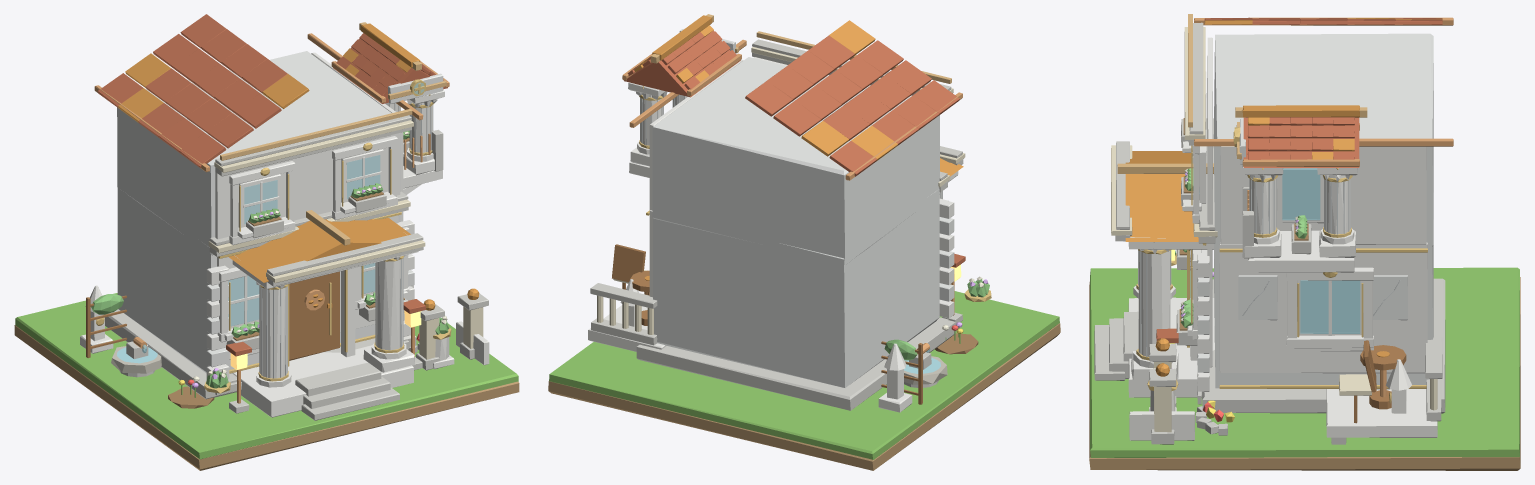
The model's file is villa_l04_active_LOD1.glb.
3 renders of one model, left to right at view 1: azimuth 30°, elevation 25°; view 2: azimuth 150°, elevation 25°; view 3: azimuth 270°, elevation 25°, orthographic. The views are drawn at different scales.
Parts seen in each view (by area): view 1: villa_grass_tile_villa_l04_active_LOD1_tmp, villa_l04_active_full_upper_shell_villa_l04_active_LOD1_tmp, villa_l01_active_v2_marble_core_villa_l04_active_LOD1_tmp, villa_earth_tile_villa_l04_active_LOD1_tmp, villa_l04_active_wide_portico_roof_gable_roof_villa_l04_acti, villa_l04_active_upper_front_cladding_villa_l04_active_LOD1_, villa_l04_active_wide_porch_villa_l04_active_LOD1_tmp, villa_l01_active_v2_entry_door_villa_l04_active_LOD1_tmp, villa_l01_active_v2_base_stone_block_low_medium_foundation_v, villa_l04_active_wide_column_-1_shaft_villa_l04_active_LOD1_, villa_l04_active_wide_column_1_shaft_villa_l04_active_LOD1_t, villa_l01_active_v2_stairs_step_2_villa_l04_active_LOD1_tmp (+51 smaller); view 2: villa_l01_active_v2_marble_core_villa_l04_active_LOD1_tmp, villa_l04_active_full_upper_shell_villa_l04_active_LOD1_tmp, villa_grass_tile_villa_l04_active_LOD1_tmp, villa_l01_active_v2_base_stone_block_low_medium_foundation_v, villa_earth_tile_villa_l04_active_LOD1_tmp, villa_l04_active_balcony_gable_gable_roof_villa_l04_active_L, villa_l04_active_chair_back_villa_l04_active_LOD1_tmp, villa_l04_active_full_upper_tile_-1_0_4_villa_l04_active_LOD, villa_l04_active_full_upper_tile_-1_2_4_villa_l04_active_LOD, villa_l04_active_full_upper_tile_-1_1_4_villa_l04_active_LOD, villa_l04_active_full_upper_tile_-1_3_4_villa_l04_active_LOD, villa_l04_active_terrace_deck_villa_l04_active_LOD1_tmp (+24 smaller); view 3: villa_grass_tile_villa_l04_active_LOD1_tmp, villa_l04_active_full_upper_shell_villa_l04_active_LOD1_tmp, villa_l01_active_v2_right_marble_cladding_villa_l04_active_L, villa_l04_active_upper_right_cladding_villa_l04_active_LOD1_, villa_earth_tile_villa_l04_active_LOD1_tmp, villa_l04_active_wide_portico_roof_gable_roof_villa_l04_acti, villa_l01_active_v2_base_stone_block_low_medium_foundation_v, villa_l04_active_terrace_deck_villa_l04_active_LOD1_tmp, villa_l01_active_v2_marble_core_villa_l04_active_LOD1_tmp, villa_l01_active_v2_side_window_glass_villa_l04_active_LOD1_, villa_l04_active_wide_column_1_shaft_villa_l04_active_LOD1_t, villa_l04_active_balcony_slab_villa_l04_active_LOD1_tmp (+43 smaller).
Part boxes in pixels (x1=…): villa_grass_tile_villa_l04_active_LOD1_tmp: x1=15, y1=293, x2=518, y2=459; villa_l04_active_full_upper_shell_villa_l04_active_LOD1_tmp: x1=117, y1=51, x2=400, y2=255; villa_l01_active_v2_marble_core_villa_l04_active_LOD1_tmp: x1=117, y1=187, x2=400, y2=373; villa_earth_tile_villa_l04_active_LOD1_tmp: x1=14, y1=325, x2=519, y2=470; villa_l04_active_wide_portico_roof_gable_roof_villa_l04_acti: x1=229, y1=218, x2=410, y2=282; villa_l04_active_upper_front_cladding_villa_l04_active_LOD1_: x1=215, y1=133, x2=400, y2=239; villa_l04_active_wide_porch_villa_l04_active_LOD1_tmp: x1=232, y1=346, x2=413, y2=417; villa_l01_active_v2_entry_door_villa_l04_active_LOD1_tmp: x1=289, y1=271, x2=339, y2=360; villa_l01_active_v2_base_stone_block_low_medium_foundation_v: x1=105, y1=309, x2=416, y2=399; villa_l04_active_wide_column_-1_shaft_villa_l04_active_LOD1_: x1=259, y1=286, x2=287, y2=378; villa_l04_active_wide_column_1_shaft_villa_l04_active_LOD1_t: x1=375, y1=258, x2=402, y2=350; villa_l01_active_v2_stairs_step_2_villa_l04_active_LOD1_tmp: x1=295, y1=362, x2=381, y2=396; villa_l01_active_v2_marble_core_villa_l04_active_LOD1_tmp: x1=653, y1=189, x2=939, y2=387; villa_l04_active_full_upper_shell_villa_l04_active_LOD1_tmp: x1=652, y1=57, x2=939, y2=264; villa_grass_tile_villa_l04_active_LOD1_tmp: x1=549, y1=291, x2=1059, y2=459; villa_l01_active_v2_base_stone_block_low_medium_foundation_v: x1=636, y1=318, x2=955, y2=410; villa_earth_tile_villa_l04_active_LOD1_tmp: x1=548, y1=323, x2=1060, y2=470; villa_l04_active_balcony_gable_gable_roof_villa_l04_active_L: x1=624, y1=30, x2=740, y2=97; villa_l04_active_chair_back_villa_l04_active_LOD1_tmp: x1=612, y1=244, x2=645, y2=282; villa_l04_active_full_upper_tile_-1_0_4_villa_l04_active_LOD: x1=745, y1=81, x2=792, y2=116; villa_l04_active_full_upper_tile_-1_2_4_villa_l04_active_LOD: x1=801, y1=121, x2=848, y2=156; villa_l04_active_full_upper_tile_-1_1_4_villa_l04_active_LOD: x1=773, y1=101, x2=820, y2=136; villa_l04_active_full_upper_tile_-1_3_4_villa_l04_active_LOD: x1=829, y1=141, x2=876, y2=176; villa_l04_active_terrace_deck_villa_l04_active_LOD1_tmp: x1=588, y1=305, x2=666, y2=351; villa_grass_tile_villa_l04_active_LOD1_tmp: x1=1090, y1=267, x2=1519, y2=457; villa_l04_active_full_upper_shell_villa_l04_active_LOD1_tmp: x1=1213, y1=33, x2=1433, y2=246; villa_l01_active_v2_right_marble_cladding_villa_l04_active_L: x1=1219, y1=242, x2=1427, y2=373; villa_l04_active_upper_right_cladding_villa_l04_active_LOD1_: x1=1220, y1=146, x2=1426, y2=244; villa_earth_tile_villa_l04_active_LOD1_tmp: x1=1089, y1=277, x2=1520, y2=470; villa_l04_active_wide_portico_roof_gable_roof_villa_l04_acti: x1=1125, y1=151, x2=1198, y2=241; villa_l01_active_v2_base_stone_block_low_medium_foundation_v: x1=1202, y1=278, x2=1445, y2=413; villa_l04_active_terrace_deck_villa_l04_active_LOD1_tmp: x1=1326, y1=389, x2=1437, y2=437; villa_l01_active_v2_marble_core_villa_l04_active_LOD1_tmp: x1=1214, y1=239, x2=1433, y2=389; villa_l01_active_v2_side_window_glass_villa_l04_active_LOD1_: x1=1300, y1=280, x2=1360, y2=333; villa_l04_active_wide_column_1_shaft_villa_l04_active_LOD1_t: x1=1138, y1=249, x2=1170, y2=356; villa_l04_active_balcony_slab_villa_l04_active_LOD1_tmp: x1=1248, y1=230, x2=1354, y2=272.
Size of what is drawn, in the model's own units: 3.57 by 3.29 by 3.58.
